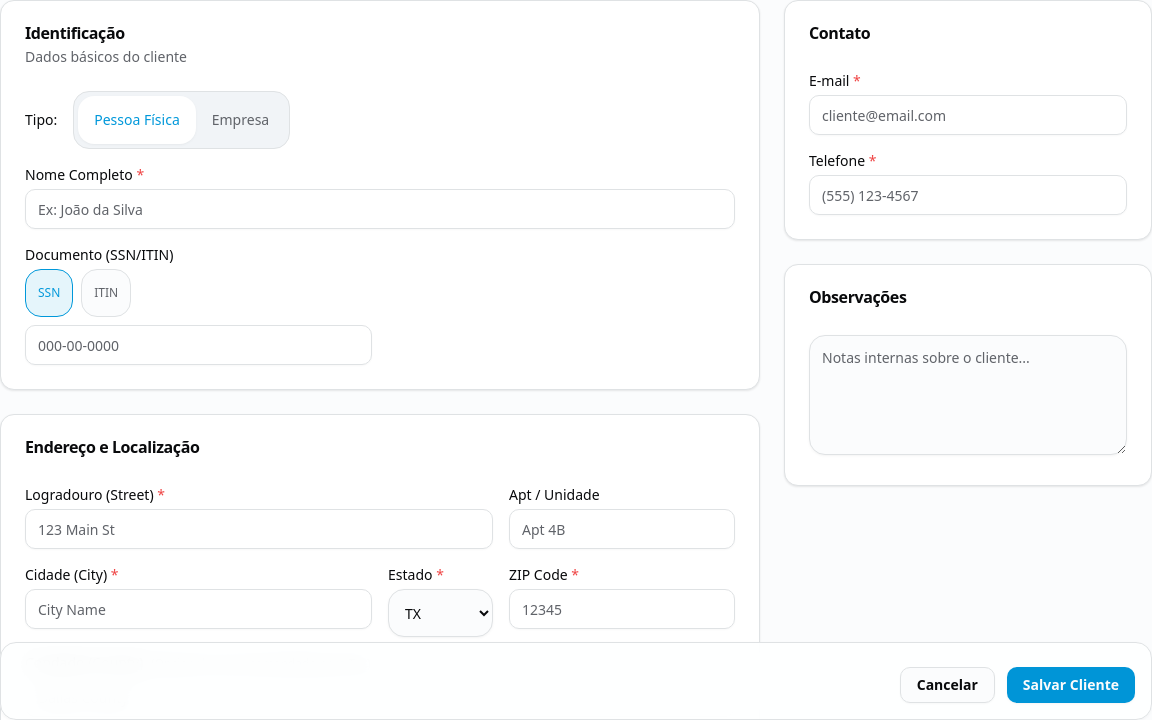
Test case: ClienteForm › PJ Validation › shows error for invalid EIN format
Click the button "Empresa" at (241, 120), box top-left (196, 96), bottom-right (285, 144)
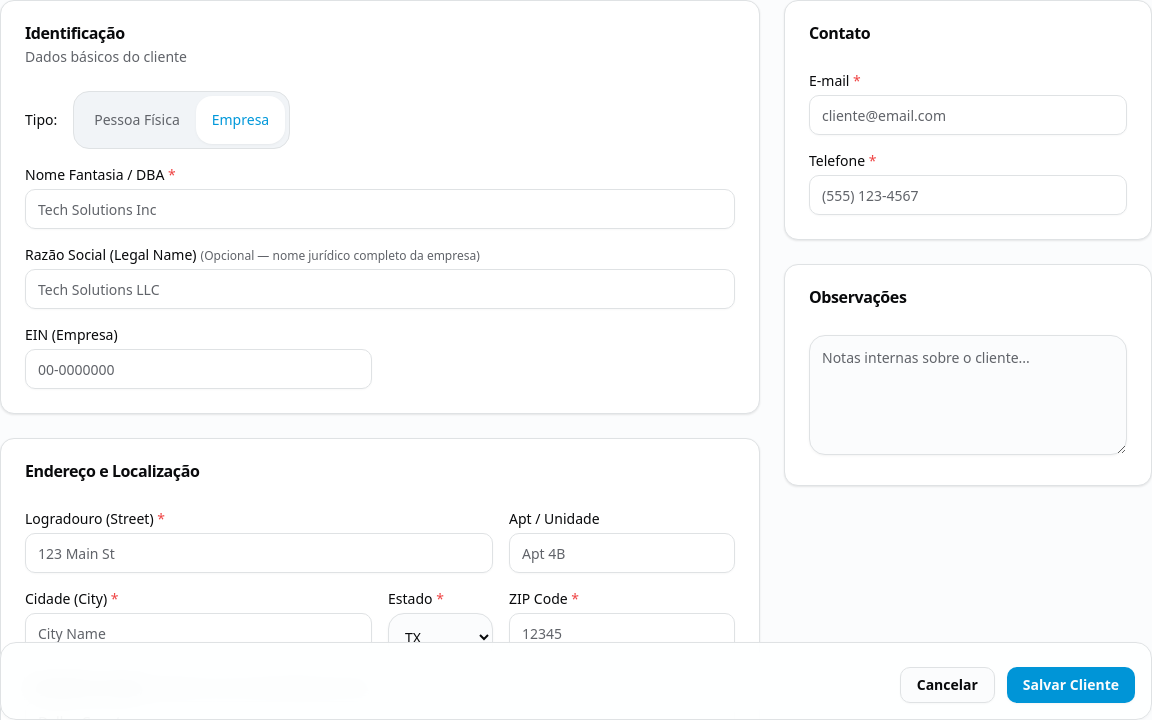
Type "1234" into the field with test id "cliente-form-ein" at (198, 369), box top-left (25, 349), bottom-right (372, 389)
(page scrolled)
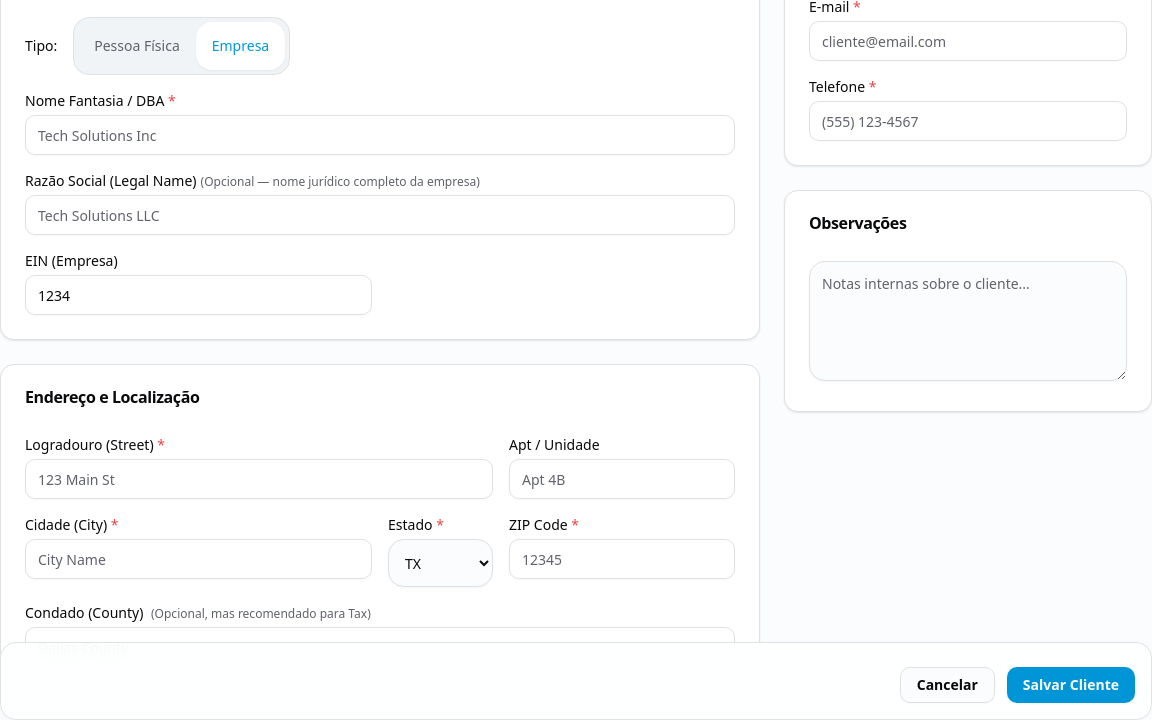
Submit the form named "salvar"
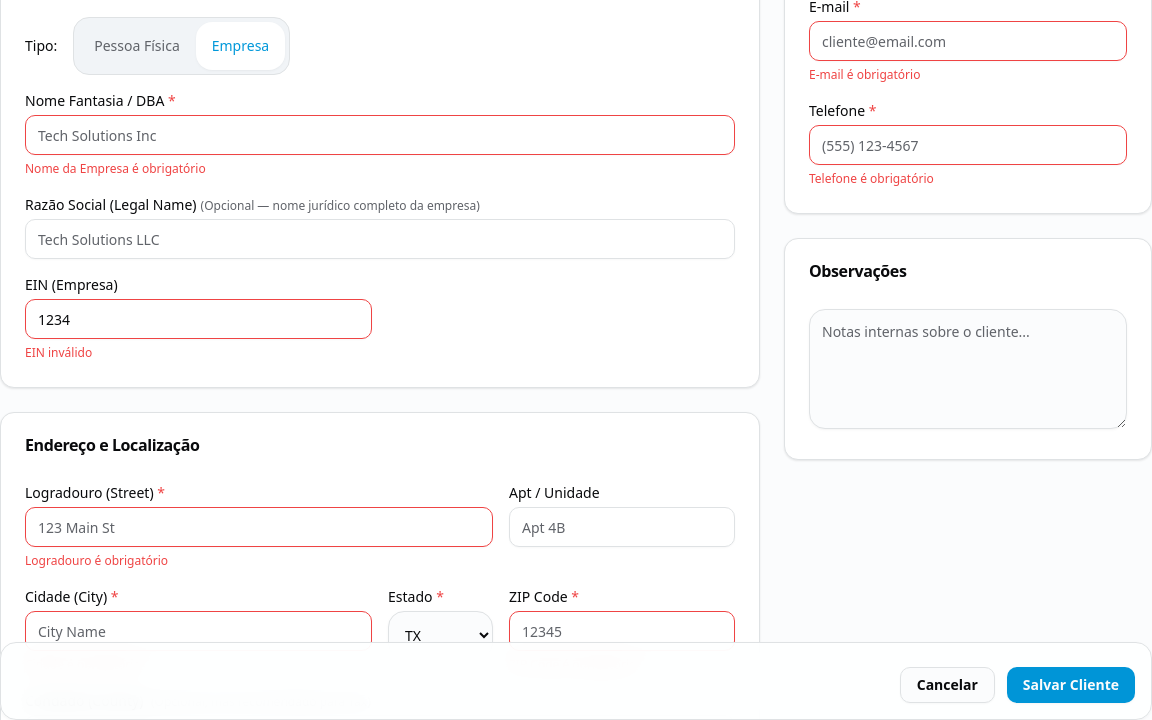
Expected: the text "EIN inválido" is shown, top-left (25, 344), bottom-right (92, 361)
